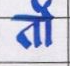ai_matra: (31, 0, 56, 17)
